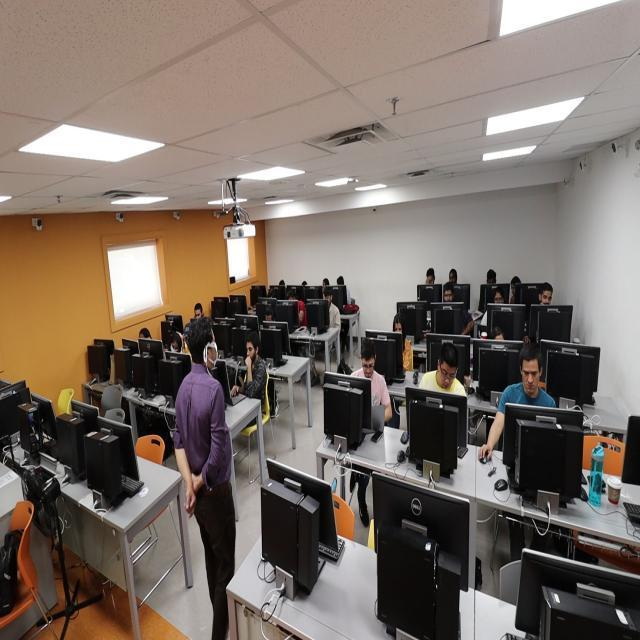Looking away: (520, 356, 542, 396), (436, 357, 456, 391), (359, 344, 376, 380), (246, 338, 256, 364), (540, 289, 552, 307)
Looking forward: (444, 286, 454, 302)
